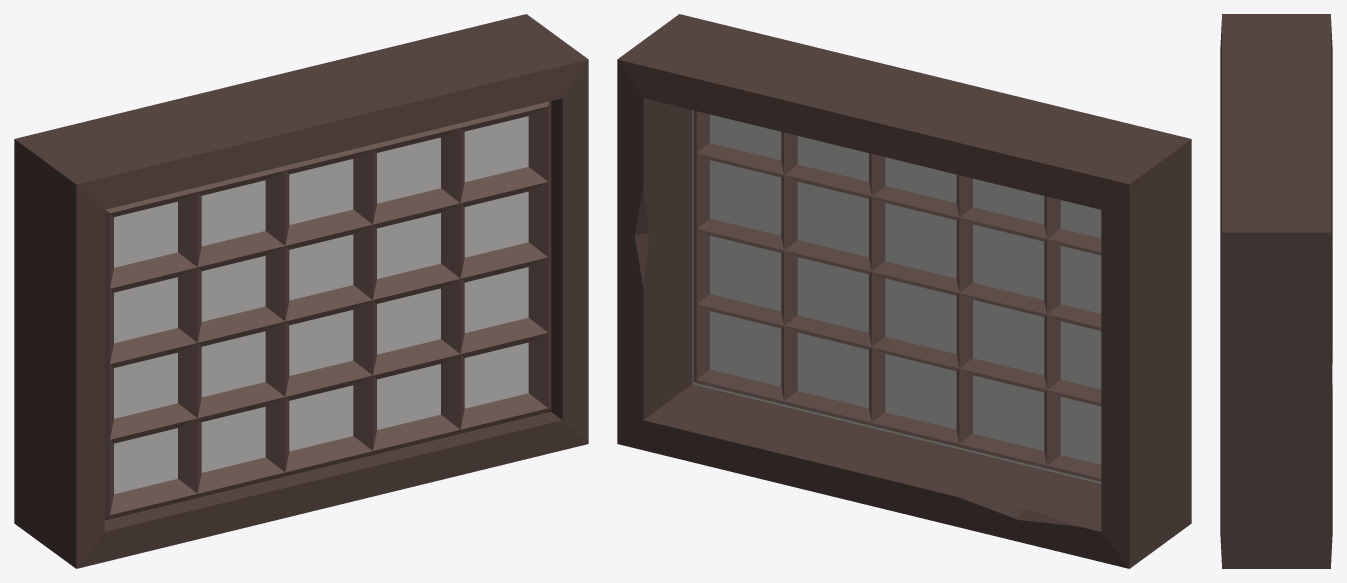
Rendered from SM_Env_Window_12.fbx.
3 views of the same model, side by side, from view 1: azimuth 30°, elevation 25°; view 2: azimuth 150°, elevation 25°; view 3: azimuth 270°, elevation 25° (orthographic). The views are drawn at different scales.
Visible parts, largest first — view 1: SM_Env_Window_12; view 2: SM_Env_Window_12; view 3: SM_Env_Window_12.
Part boxes in pixels (left/top/right/bottom): SM_Env_Window_12: left=14, top=14, right=588, bottom=568; SM_Env_Window_12: left=617, top=14, right=1191, bottom=568; SM_Env_Window_12: left=1220, top=14, right=1332, bottom=568.
Bounding box in the file's own units: 98.83 × 70.89 × 21.52.
1 material, 1 textured.
